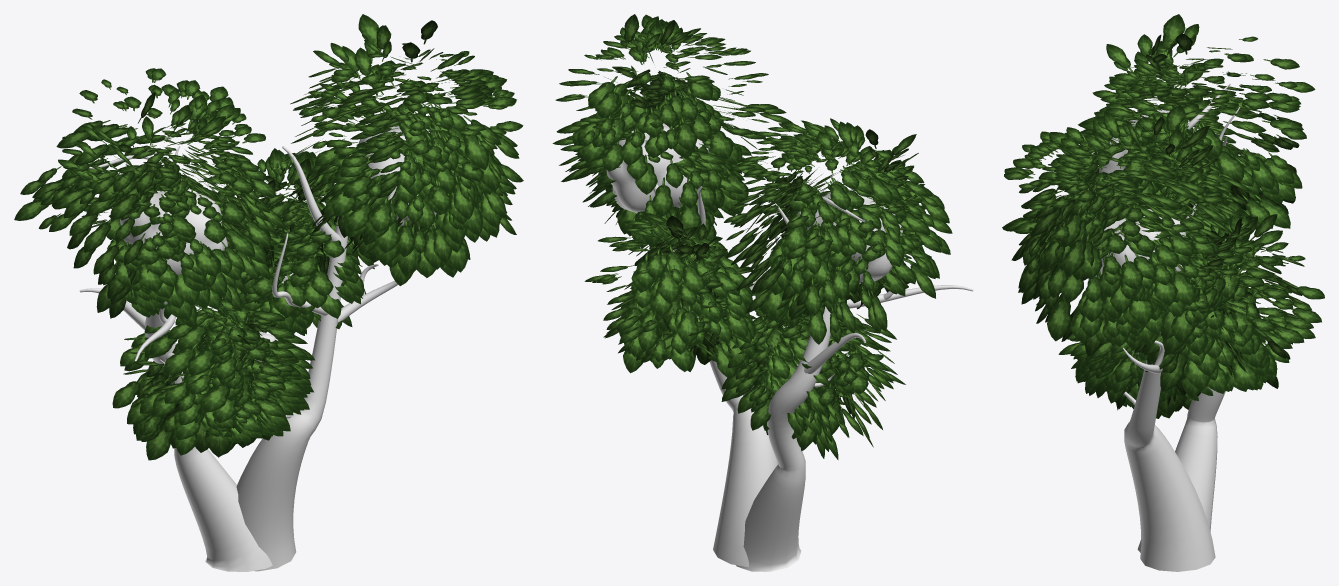
3 views of the same model, side by side, from view 1: azimuth 30°, elevation 25°; view 2: azimuth 150°, elevation 25°; view 3: azimuth 270°, elevation 25° (orthographic). The views are drawn at different scales.
Parts seen in each view (by area): view 1: leaveless_tree_5, Cube.009, Cube.010; view 2: leaveless_tree_5, Cube.010, Cube.009, Cube.012|Plane.001|Dupli|77, Cube.012|Plane.001|Dupli|961; view 3: leaveless_tree_5, Cube.010, Cube.010|Plane.001|Dupli|684, Cube.010|Plane.001|Dupli|299, Cube.009|Plane.001|Dupli|430, Cube.012|Plane.001|Dupli|205, Cube.010|Plane.001|Dupli|308, Cube.012|Plane.001|Dupli|736, Cube.010|Plane.001|Dupli|254, Cube.009|Plane.001|Dupli|205, Cube.010|Plane.001|Dupli|264, Cube.009|Plane.001|Dupli|931 (+10 smaller).
Boxes of the visible parts, x1=… form: leaveless_tree_5: x1=79, y1=143, x2=398, y2=571; Cube.009: x1=120, y1=190, x2=227, y2=274; Cube.010: x1=358, y1=126, x2=436, y2=225; leaveless_tree_5: x1=653, y1=184, x2=973, y2=571; Cube.010: x1=606, y1=123, x2=708, y2=213; Cube.009: x1=807, y1=189, x2=902, y2=284; Cube.012|Plane.001|Dupli|77: x1=677, y1=305, x2=698, y2=344; Cube.012|Plane.001|Dupli|961: x1=657, y1=261, x2=680, y2=303; leaveless_tree_5: x1=1062, y1=84, x2=1240, y2=571; Cube.010: x1=1087, y1=209, x2=1187, y2=279; Cube.010|Plane.001|Dupli|684: x1=1047, y1=297, x2=1071, y2=341; Cube.010|Plane.001|Dupli|299: x1=1062, y1=230, x2=1086, y2=276; Cube.009|Plane.001|Dupli|430: x1=1214, y1=151, x2=1244, y2=181; Cube.012|Plane.001|Dupli|205: x1=1231, y1=353, x2=1257, y2=390; Cube.010|Plane.001|Dupli|308: x1=1173, y1=267, x2=1195, y2=305; Cube.012|Plane.001|Dupli|736: x1=1160, y1=352, x2=1186, y2=391; Cube.010|Plane.001|Dupli|254: x1=1121, y1=254, x2=1143, y2=289; Cube.009|Plane.001|Dupli|205: x1=1254, y1=194, x2=1290, y2=228; Cube.010|Plane.001|Dupli|264: x1=1129, y1=299, x2=1154, y2=325; Cube.009|Plane.001|Dupli|931: x1=1162, y1=14, x2=1185, y2=52.
Size of the model in its own units: 491 by 556 by 318.
